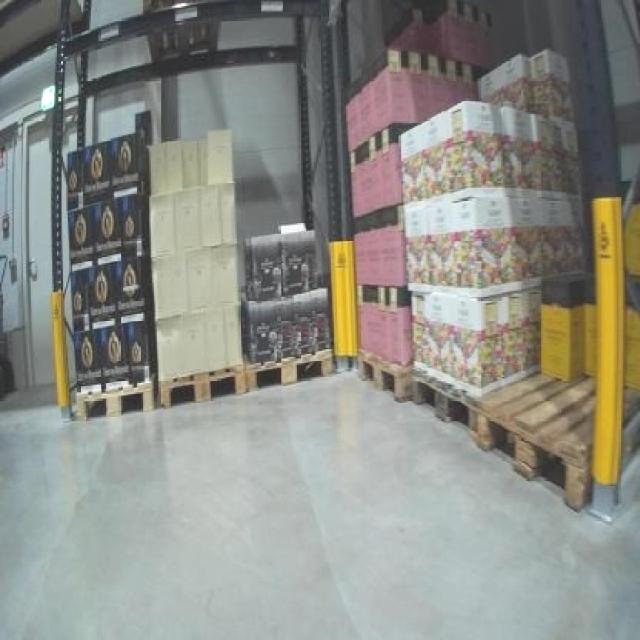floor: (0, 371, 637, 637)
pallets: (345, 0, 623, 514), (505, 429, 557, 472)
